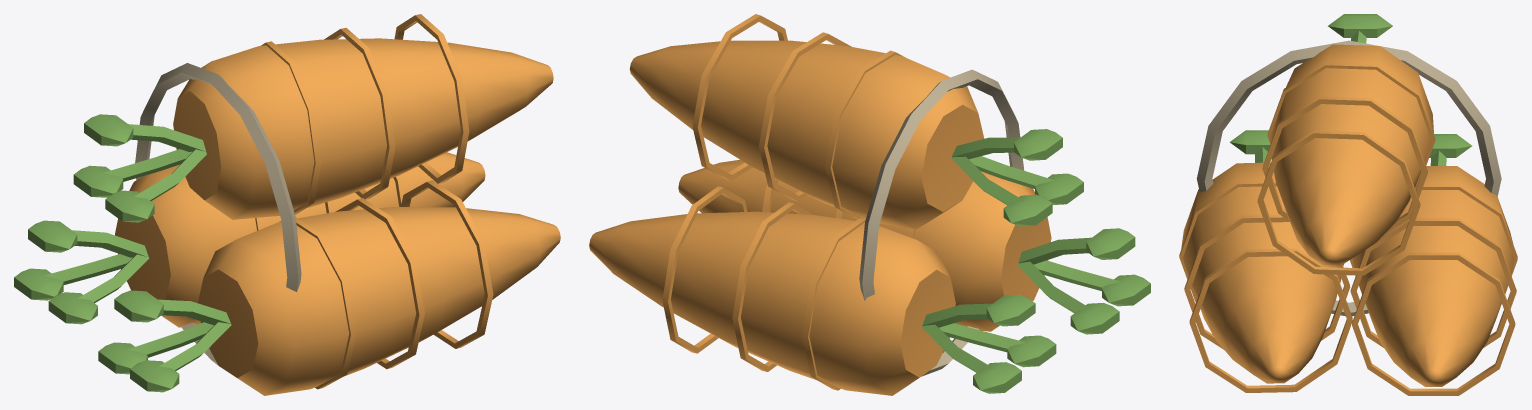
File: carrot.glb
The picture shows the model from 3 angles, left to right: view 1: azimuth 30°, elevation 25°; view 2: azimuth 150°, elevation 25°; view 3: azimuth 270°, elevation 25°; orthographic projection. The views are drawn at different scales.
Visible parts, largest first — view 1: body; view 2: body; view 3: body.
Part boxes in pixels (bbox=[...]): body: bbox=[14, 14, 560, 395]; body: bbox=[589, 14, 1150, 395]; body: bbox=[1179, 14, 1517, 395].
Size of the model in its own units: 0.0651 by 0.0397 by 0.0433.
